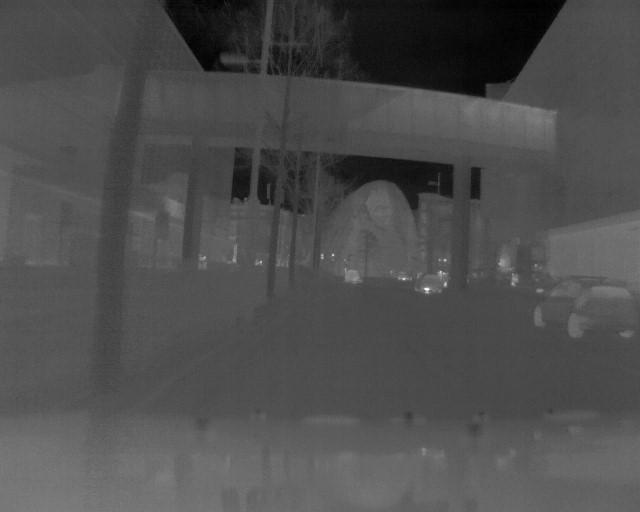car: (533, 276, 640, 341), (413, 271, 444, 297), (338, 267, 365, 286)
